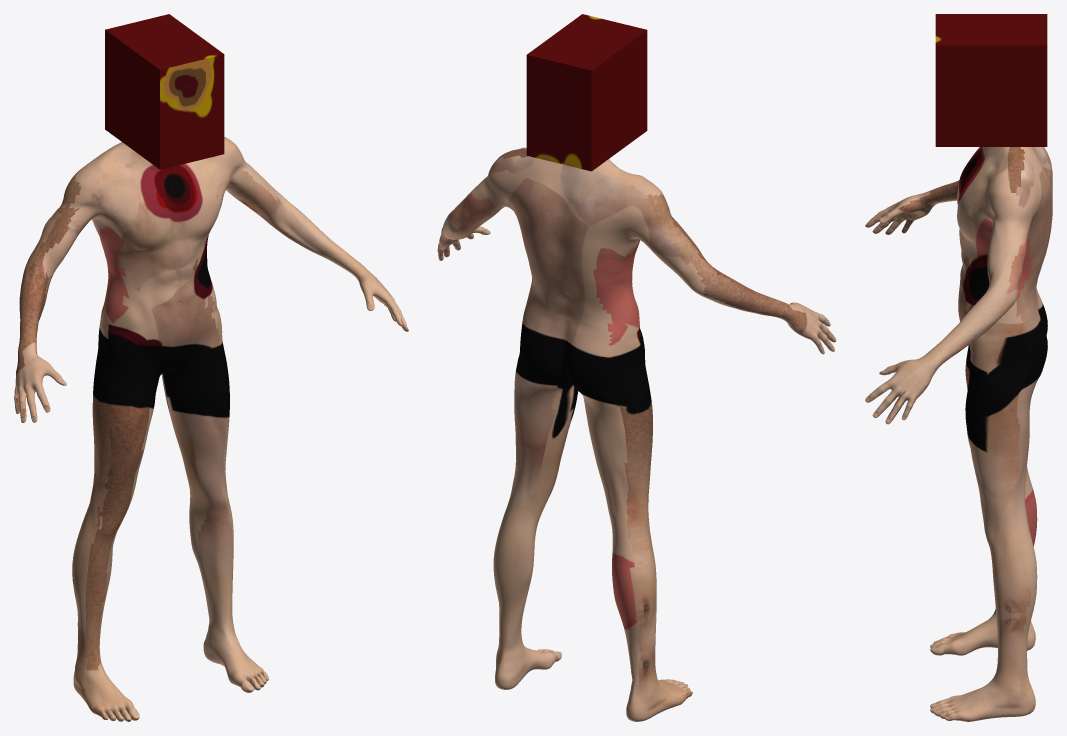
File: dead-bodies.glb
The picture shows the model from 3 angles, left to right: view 1: azimuth 30°, elevation 25°; view 2: azimuth 150°, elevation 25°; view 3: azimuth 270°, elevation 25°; orthographic projection.
Parts seen in each view (by area): view 1: Cube; view 2: Cube; view 3: Cube.
Part boxes in pixels (x1=…): Cube: x1=14, y1=14, x2=408, y2=721; Cube: x1=437, y1=14, x2=836, y2=721; Cube: x1=865, y1=14, x2=1052, y2=721.
Bounding box in the file's own units: 1.26 × 2.01 × 0.5226.
3 materials, 3 textured.
